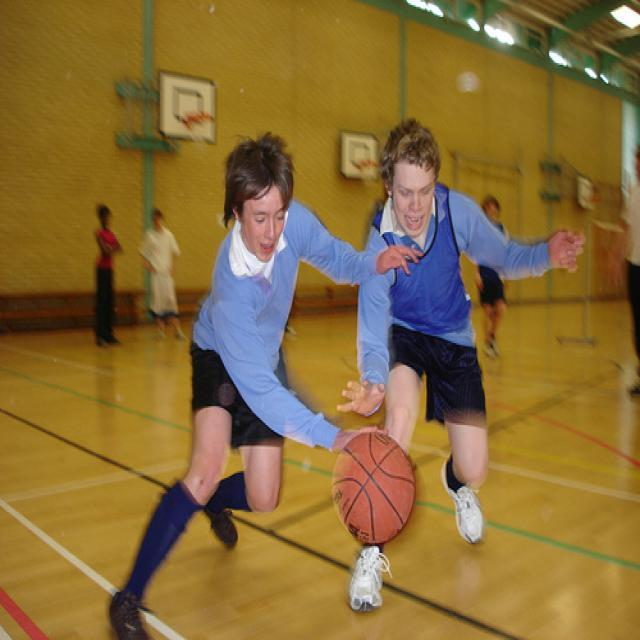basketball: (330, 430, 415, 541)
